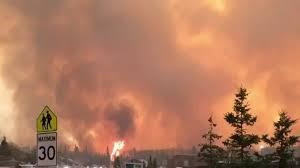fire: (108, 138, 126, 160)
